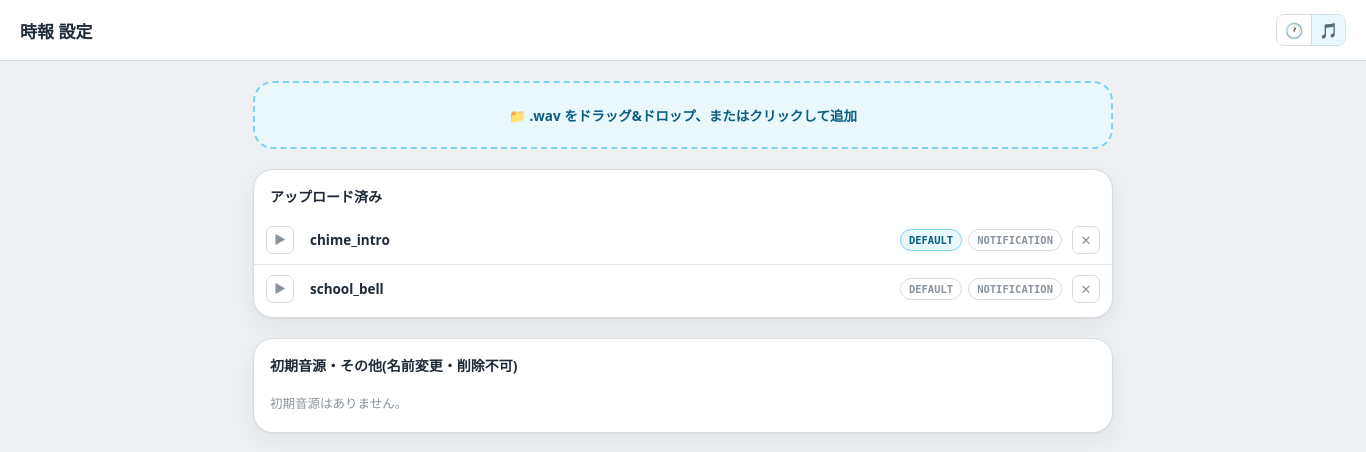
Scenario: 楽曲管理画面 › 別の行の再生ボタンをクリックすると、前の再生が止まり新しい行の再生に切り替わる
Expected: the button "chime_intro" is shown, [304,227,890,253]
Click the button named "chime_intro を再生". click: (280, 240)
box: [266,226,294,254]
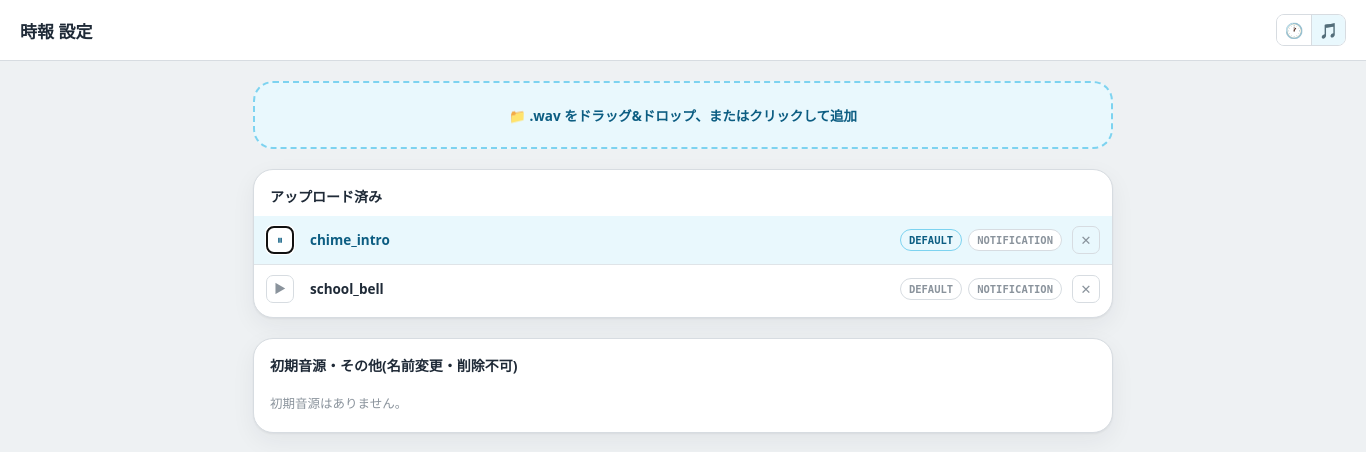
Result: the button named "chime_intro を停止" is shown at [266,226,294,254]
Click the button named "school_bell を再生". click: (280, 289)
box: [266,275,294,303]
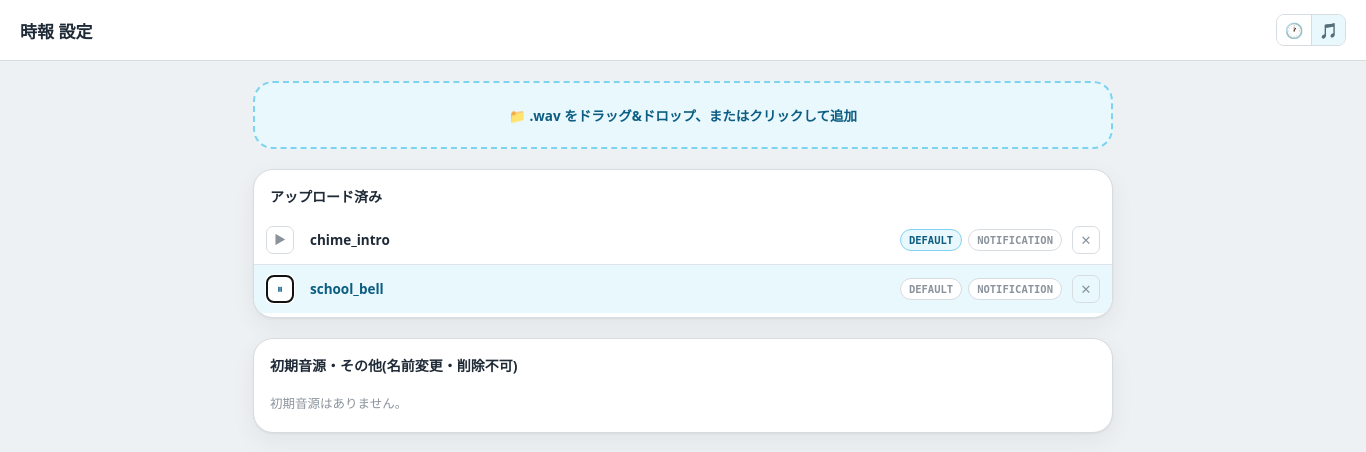
Result: the button named "chime_intro を再生" is shown at [266,226,294,254]
Result: the button named "school_bell を停止" is shown at [266,275,294,303]
